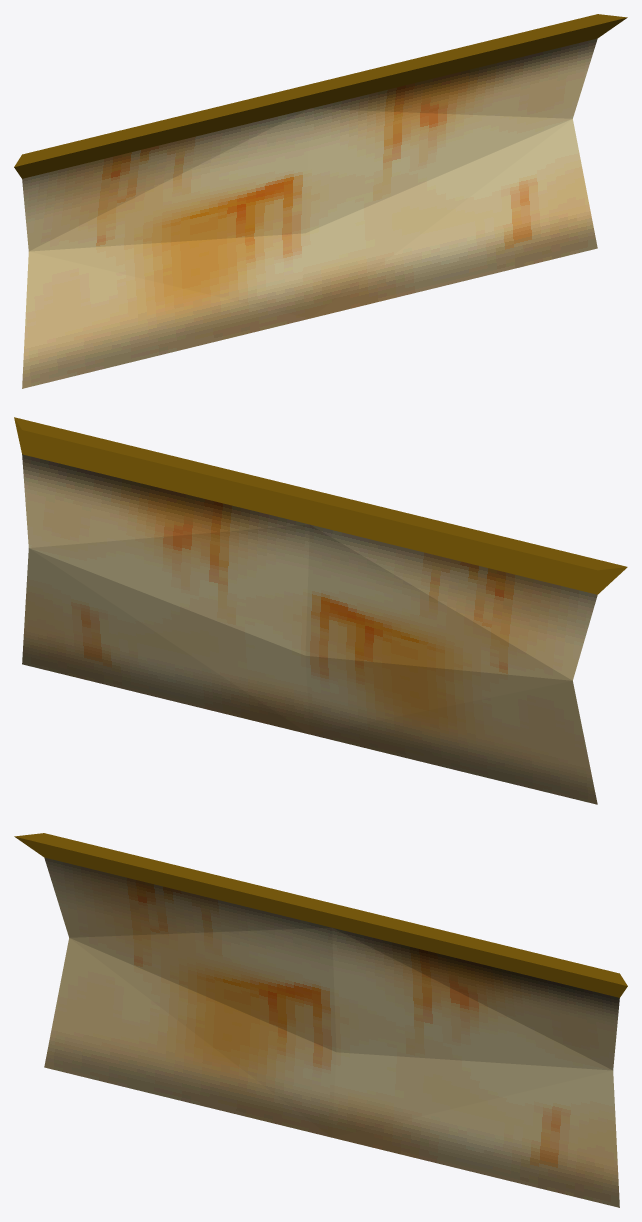
The model's file is W_A1_xxxx [Schiff]_1232.glb.
The picture shows the model from 3 angles, top to bottom: view 1: azimuth 30°, elevation 25°; view 2: azimuth 150°, elevation 25°; view 3: azimuth 330°, elevation 25°; orthographic projection.
Visible parts, largest first — view 1: polySurfaceShape787, polySurfaceShape1065; view 2: polySurfaceShape787, polySurfaceShape1065; view 3: polySurfaceShape787, polySurfaceShape1065.
Boxes of the visible parts, left/top/right/bottom form: polySurfaceShape787: left=22, top=38, right=597, bottom=388; polySurfaceShape1065: left=14, top=14, right=627, bottom=178; polySurfaceShape787: left=22, top=454, right=597, bottom=804; polySurfaceShape1065: left=14, top=417, right=627, bottom=594; polySurfaceShape787: left=44, top=857, right=619, bottom=1207; polySurfaceShape1065: left=14, top=833, right=627, bottom=997.
Size of the model in its own units: 1.07 by 0.3891 by 0.0607.
Materials: 2 (1 with a texture image).
